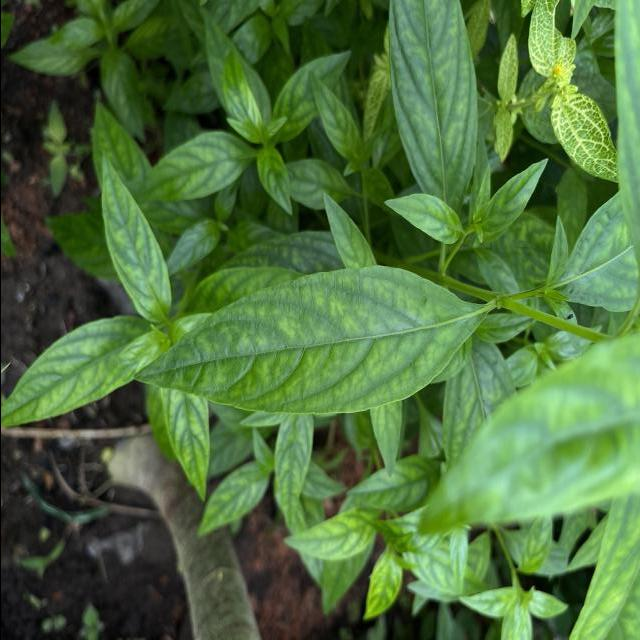Andrographis paniculata: (130, 263, 492, 418), (0, 315, 150, 428), (100, 148, 172, 324), (133, 130, 255, 202), (270, 48, 352, 144), (196, 459, 269, 536), (478, 156, 548, 235), (308, 70, 362, 162), (282, 508, 377, 560), (272, 414, 313, 526), (382, 192, 463, 246), (256, 146, 292, 217)
